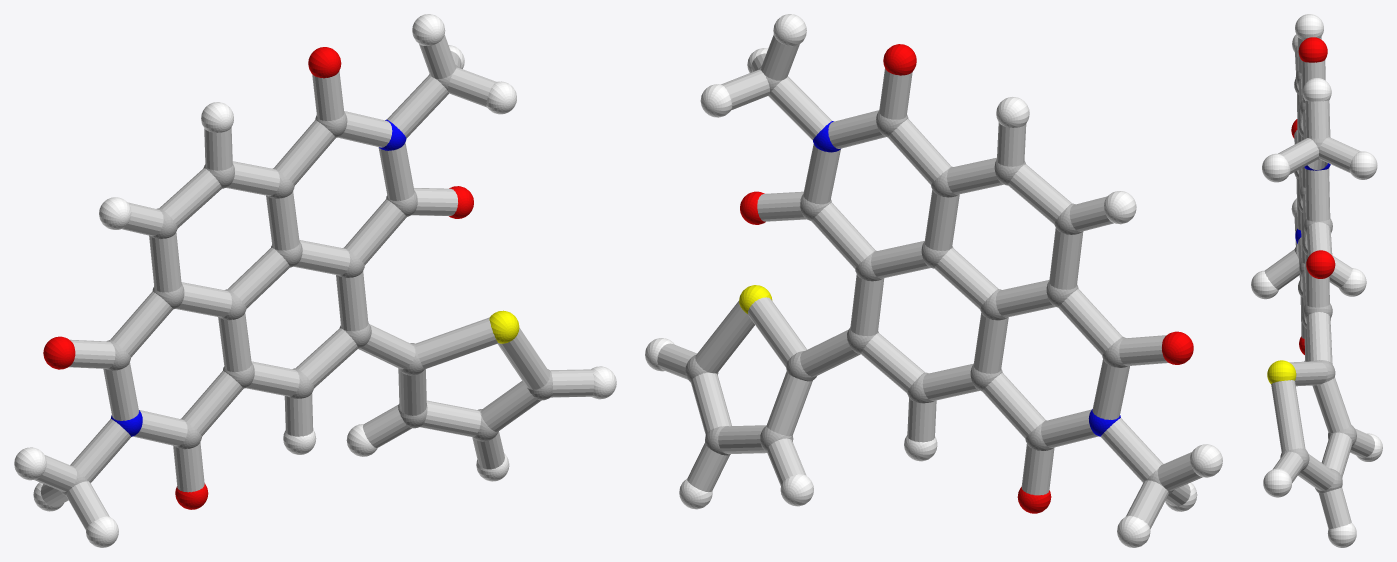
Rendered from Dimethyl_Naphthalene_Dicarboximide_Phi_5_Theta_210_Thiophene.glb.
The picture shows the model from 3 angles, left to right: view 1: azimuth 30°, elevation 25°; view 2: azimuth 150°, elevation 25°; view 3: azimuth 270°, elevation 25°; orthographic projection. The views are drawn at different scales.
Parts seen in each view (by area): view 1: grp14119, grp7241, grp1, grp12309, grp13757, grp11585; view 2: grp14119, grp7241, grp1, grp12309, grp11585; view 3: grp14119, grp7241, grp1, grp12309, grp13757.
Boxes of the visible parts, left/top/right/bottom form: grp14119: left=34, top=35, right=594, bottom=529; grp7241: left=14, top=14, right=616, bottom=547; grp1: left=60, top=65, right=552, bottom=495; grp12309: left=43, top=47, right=473, bottom=509; grp13757: left=489, top=310, right=519, bottom=343; grp11585: left=111, top=119, right=406, bottom=436; grp14119: left=657, top=34, right=1202, bottom=528; grp7241: left=645, top=14, right=1222, bottom=547; grp1: left=685, top=66, right=1173, bottom=494; grp12309: left=740, top=44, right=1193, bottom=513; grp11585: left=813, top=121, right=1120, bottom=436; grp14119: left=1264, top=36, right=1374, bottom=528; grp7241: left=1251, top=14, right=1382, bottom=547; grp1: left=1280, top=70, right=1356, bottom=493; grp12309: left=1291, top=37, right=1335, bottom=354; grp13757: left=1267, top=360, right=1296, bottom=383.
Size of the model in its own units: 12.18 by 9.89 by 2.72.
